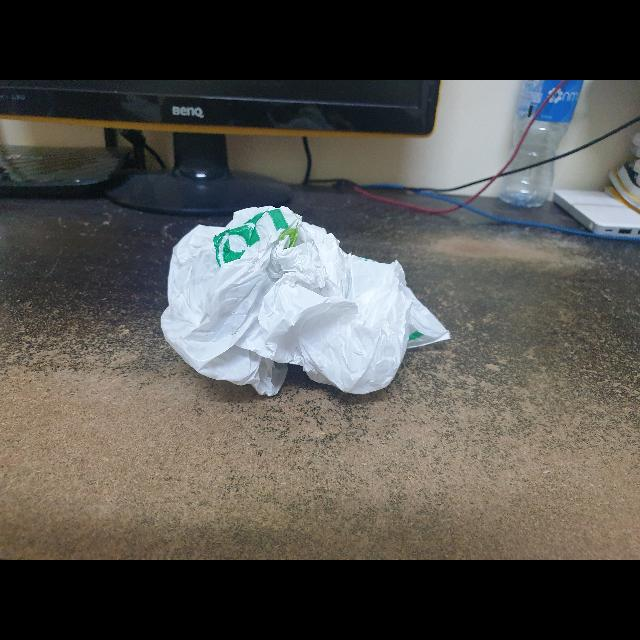plastic_bag: (158, 197, 460, 407)
